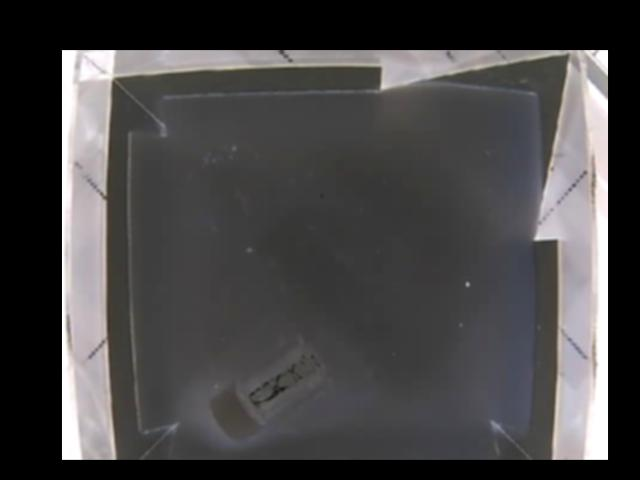Bottle: (207, 336, 325, 436)
